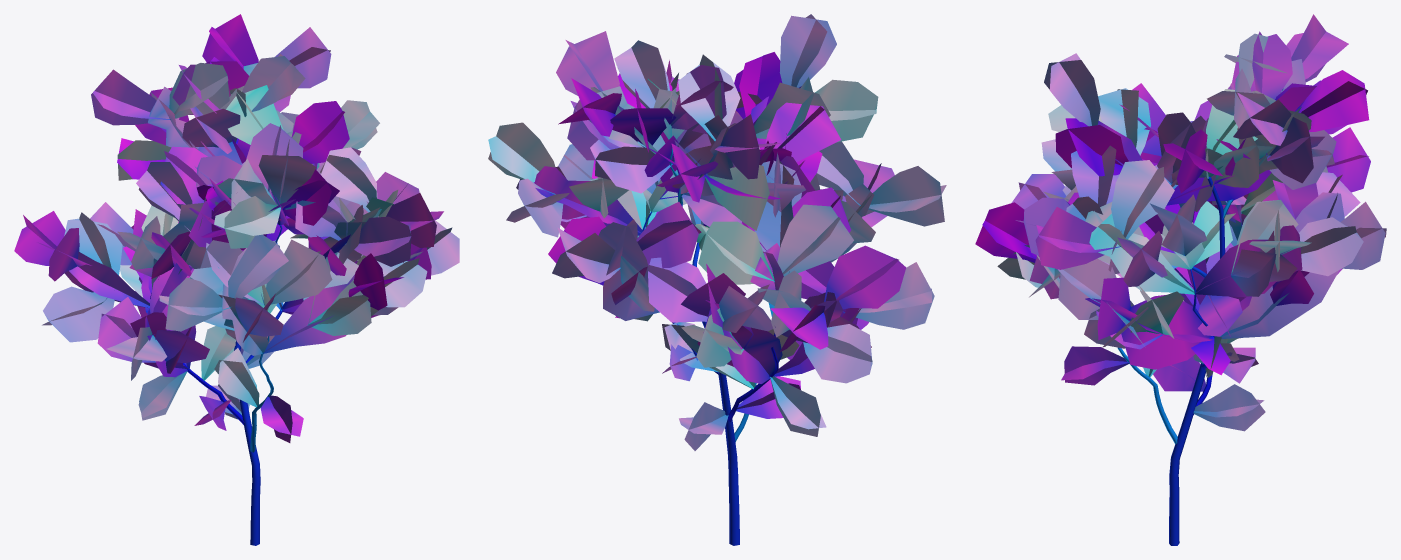
Rendered from European_Spindle_wk1ncbxja_Mid_wk1ncbxja_VarA_LOD2.fbx.
The picture shows the model from 3 angles, left to right: view 1: azimuth 30°, elevation 25°; view 2: azimuth 150°, elevation 25°; view 3: azimuth 270°, elevation 25°; orthographic projection. The views are drawn at different scales.
Parts seen in each view (by area): view 1: _jv4m_VarA_LOD3; view 2: _jv4m_VarA_LOD3; view 3: _jv4m_VarA_LOD3.
Boxes of the visible parts, x1=… form: _jv4m_VarA_LOD3: x1=14, y1=14, x2=459, y2=545; _jv4m_VarA_LOD3: x1=488, y1=14, x2=946, y2=545; _jv4m_VarA_LOD3: x1=975, y1=14, x2=1386, y2=545.
Size of the model in its own units: 142 by 174 by 129.
